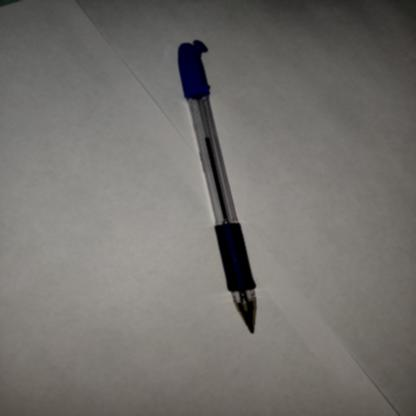Pen: (163, 30, 277, 344)
